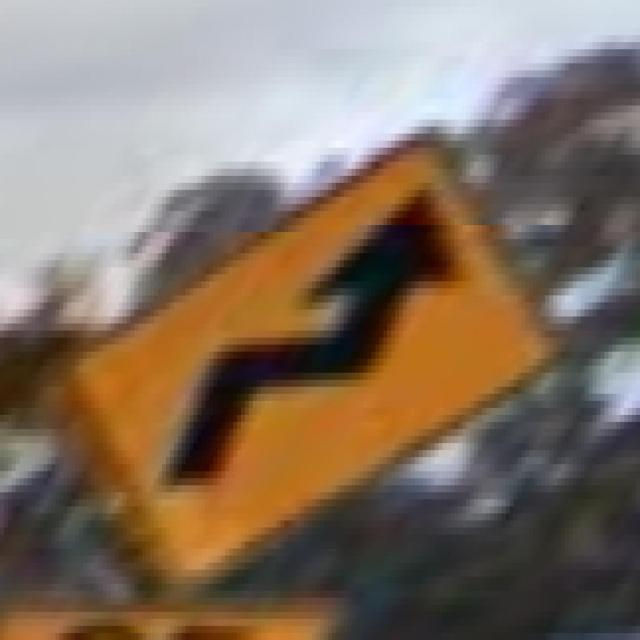Tikungan Ganda Pertama Ke Kanan: (63, 105, 561, 577)
